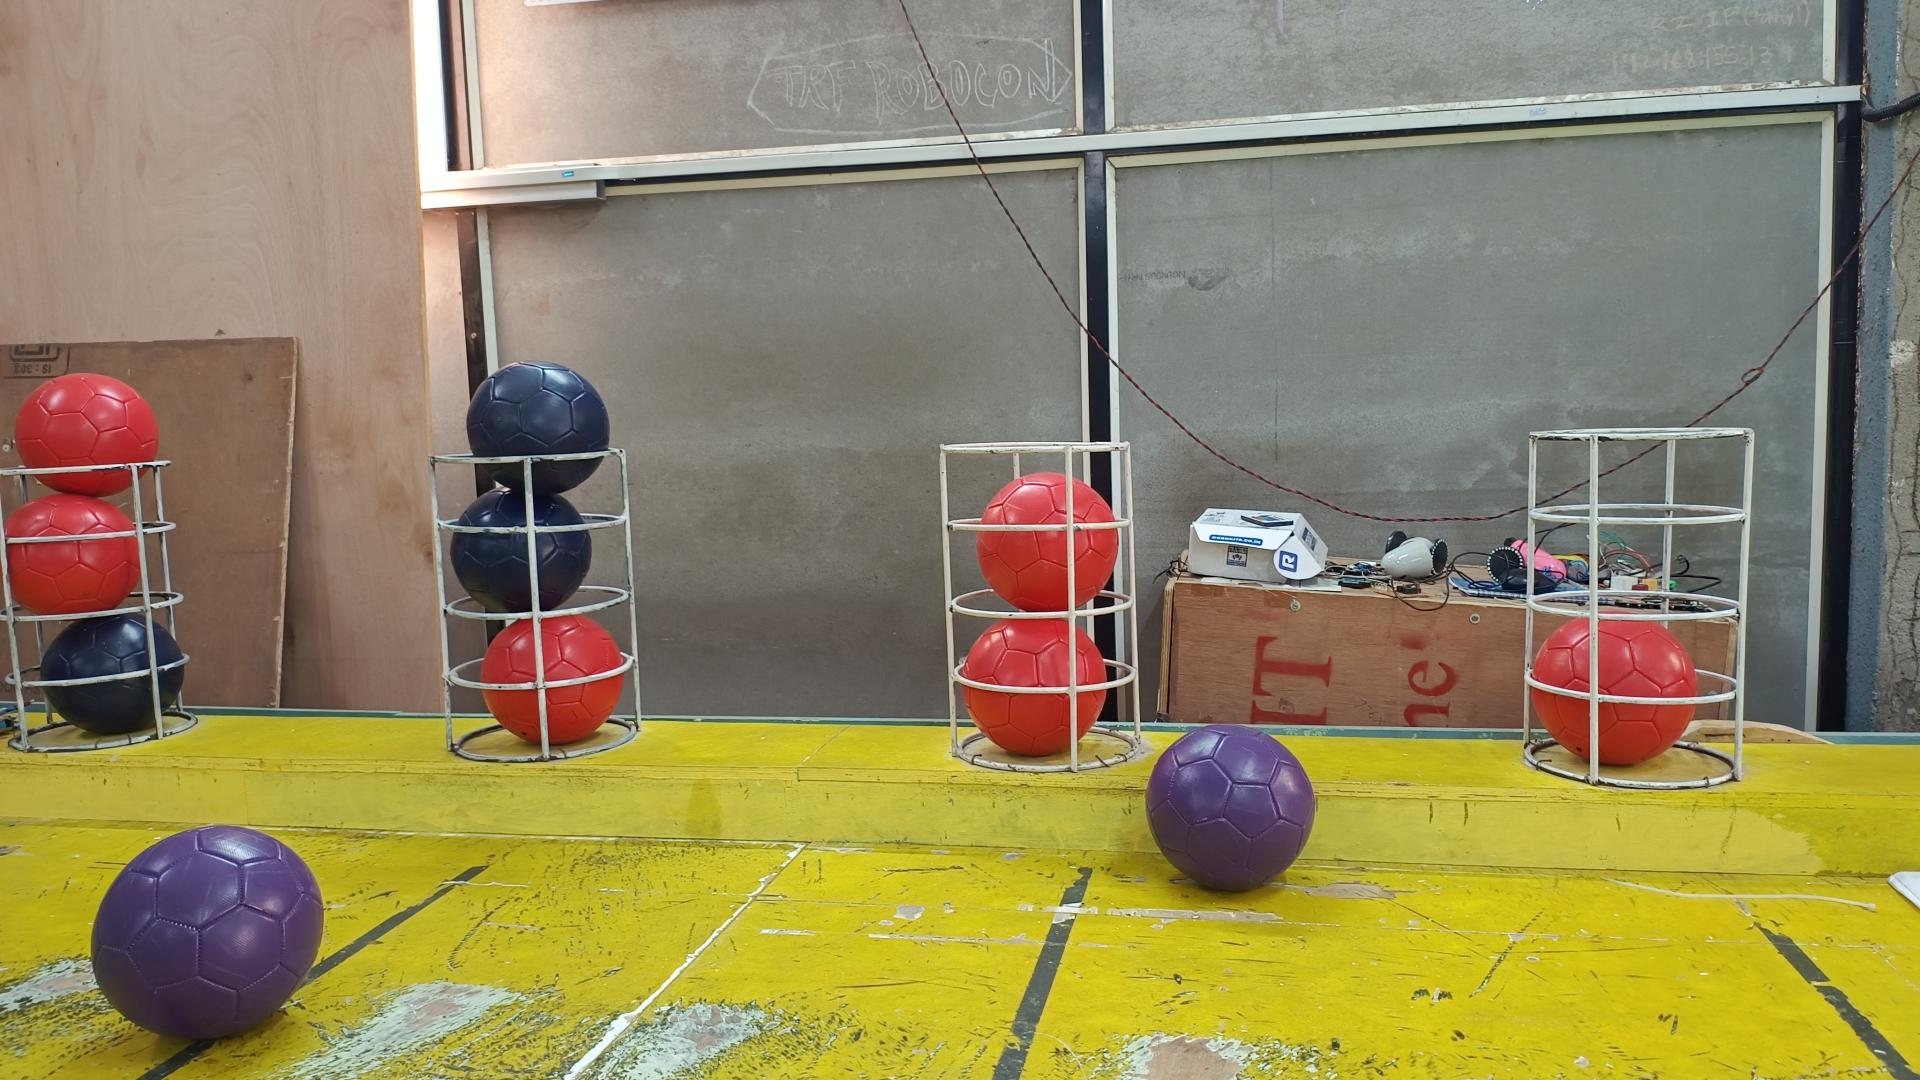dhoka: (468, 360, 604, 491), (452, 489, 588, 609), (46, 616, 181, 732)
laale: (1530, 615, 1698, 765), (960, 615, 1110, 757), (976, 471, 1118, 613), (481, 617, 620, 745), (20, 378, 156, 498), (0, 500, 138, 616)
